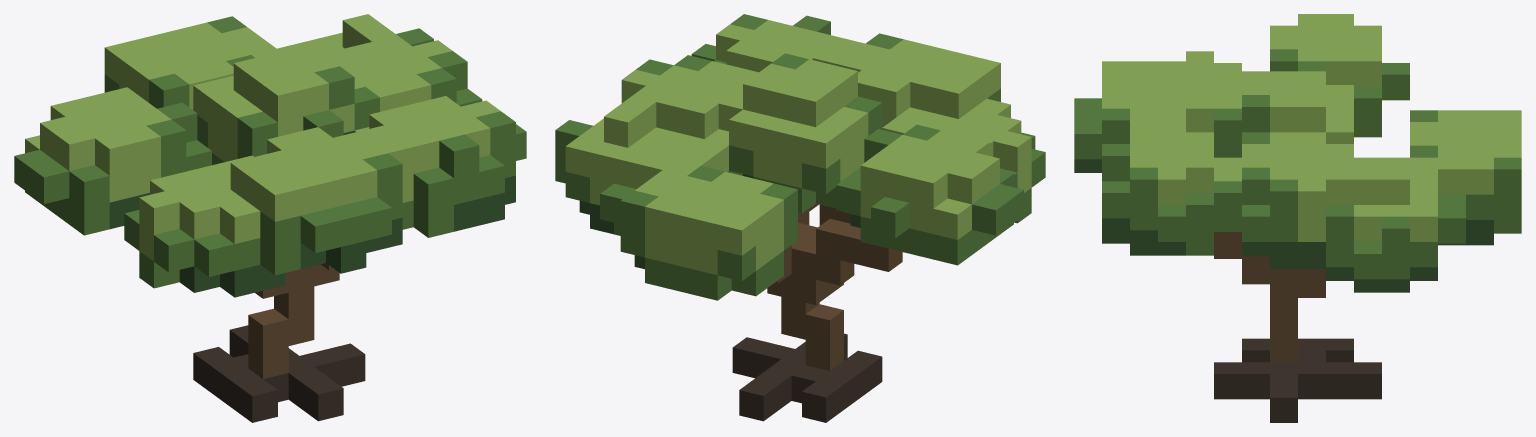
Rendered from ancient_oak_v2_species1_far.glb.
3 views of the same model, side by side, from view 1: azimuth 30°, elevation 25°; view 2: azimuth 150°, elevation 25°; view 3: azimuth 270°, elevation 25° (orthographic). The views are drawn at different scales.
Visible parts, largest first — view 1: ancient_oak_v2_species1_far; view 2: ancient_oak_v2_species1_far; view 3: ancient_oak_v2_species1_far.
Part boxes in pixels (x1=…): ancient_oak_v2_species1_far: x1=14, y1=14, x2=526, y2=422; ancient_oak_v2_species1_far: x1=555, y1=14, x2=1045, y2=422; ancient_oak_v2_species1_far: x1=1074, y1=14, x2=1521, y2=422.
Bounding box in the file's own units: 8.5 × 6 × 8.
Materials: 1 (1 with a texture image).
